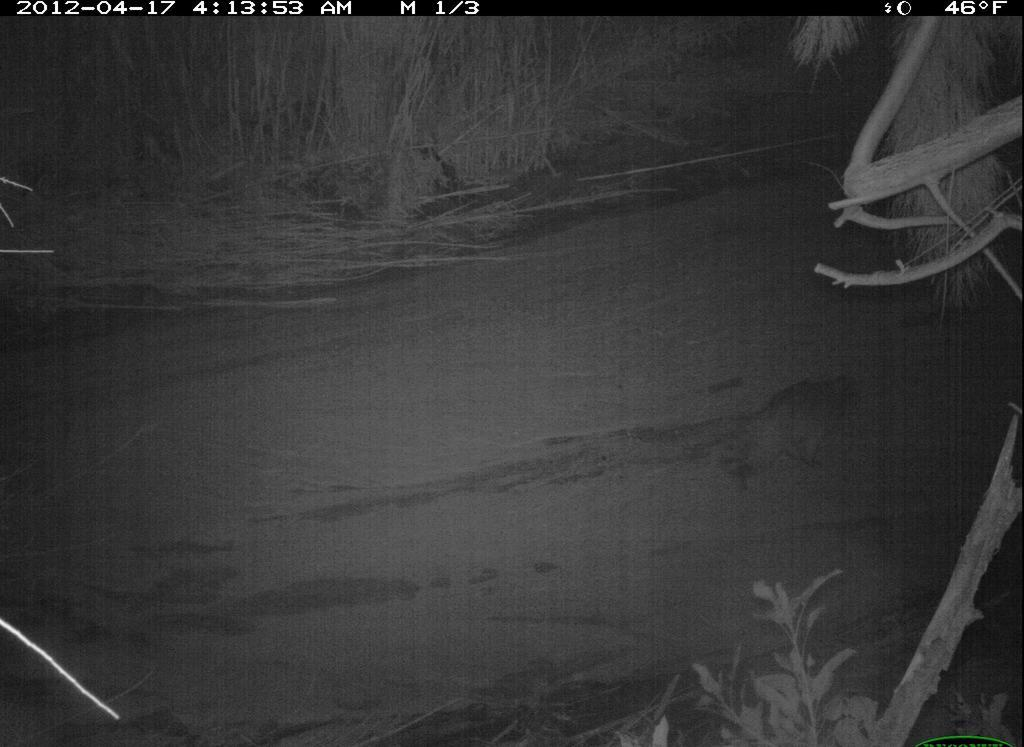raccoon: (692, 356, 873, 501)
